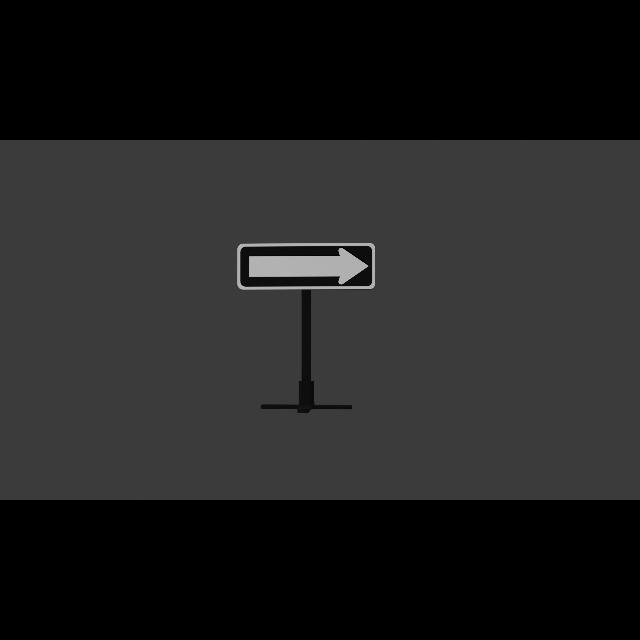sign_oneway_right: (240, 244, 375, 291)
